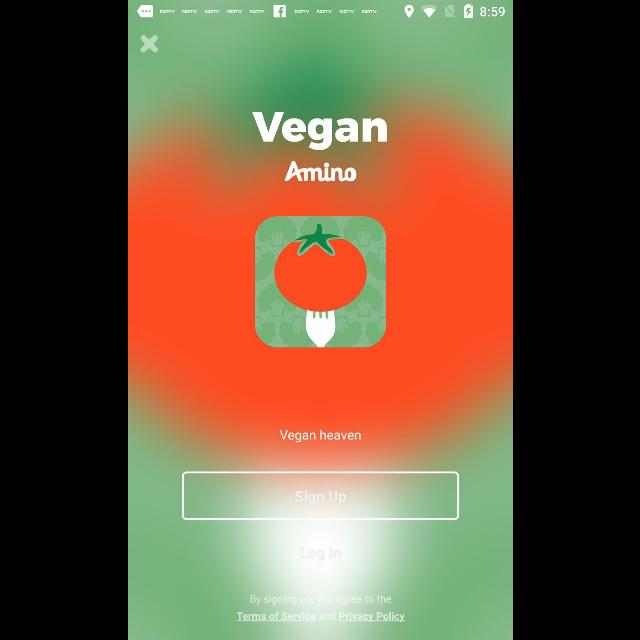icon: (140, 34, 158, 54)
image: (254, 216, 386, 348), (284, 160, 356, 182)
text: (252, 112, 386, 150), (236, 594, 404, 622), (278, 430, 359, 442), (299, 546, 341, 562)
textbutton: (182, 472, 458, 520)
uppertaskbar: (128, 0, 512, 18)
